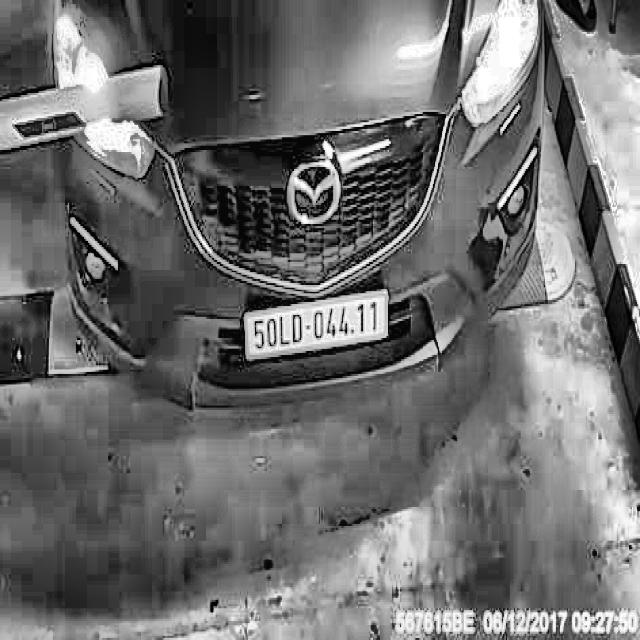plate: (241, 284, 396, 368)
